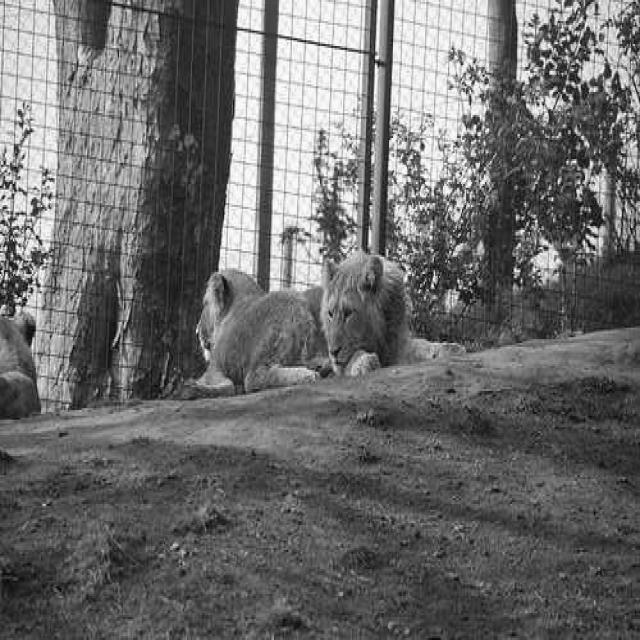Lion: (207, 184, 431, 427)
